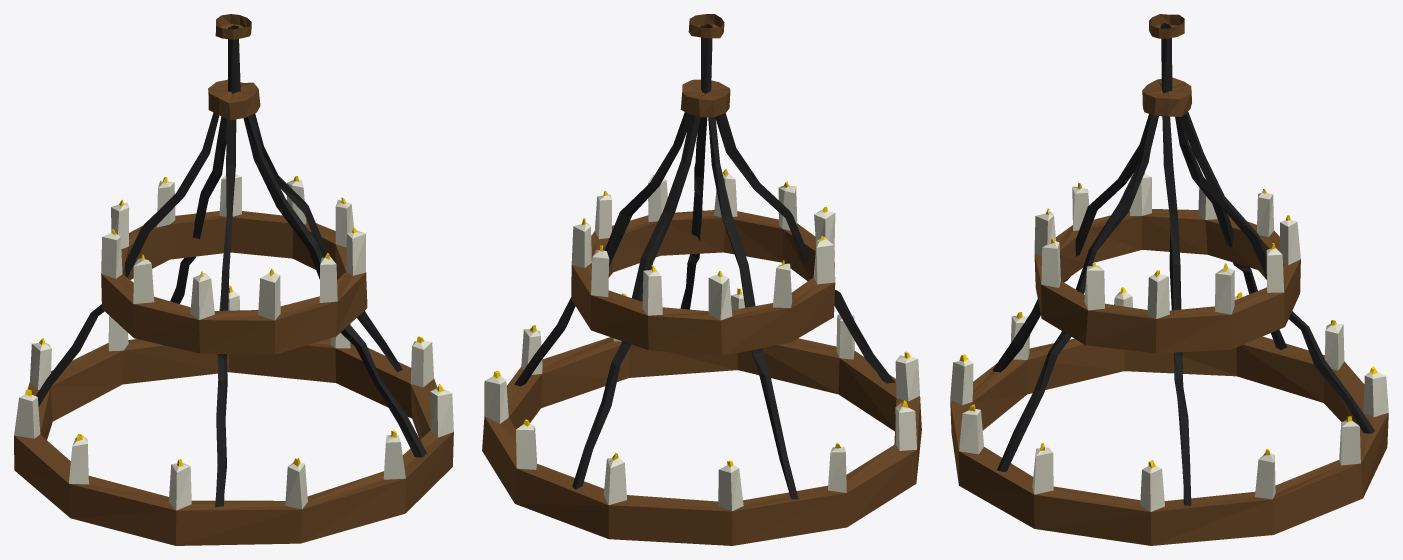
File: RG-Dungeon_Chandelier.fbx
The picture shows the model from 3 angles, left to right: view 1: azimuth 30°, elevation 25°; view 2: azimuth 150°, elevation 25°; view 3: azimuth 270°, elevation 25°; orthographic projection.
Parts seen in each view (by area): view 1: RG-Dungeon_Chandelier; view 2: RG-Dungeon_Chandelier; view 3: RG-Dungeon_Chandelier.
Boxes of the visible parts, <box> form: RG-Dungeon_Chandelier: <box>14,14,453,545</box>; RG-Dungeon_Chandelier: <box>482,14,921,545</box>; RG-Dungeon_Chandelier: <box>950,14,1388,545</box>.
Size of the model in its own units: 14.19 by 15.51 by 14.19.
